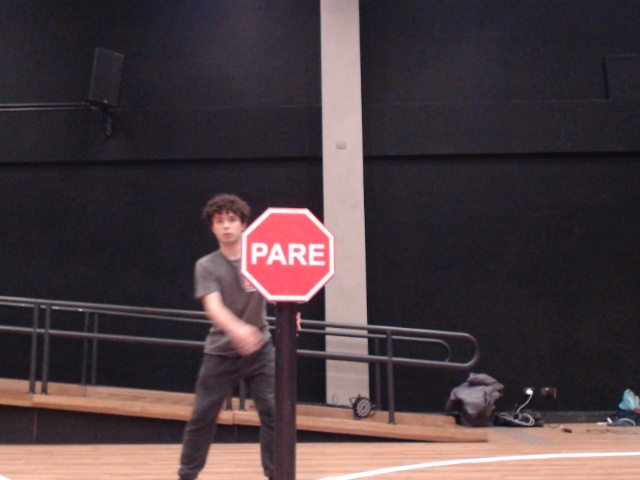SEMAFORO: (221, 192, 367, 327)
